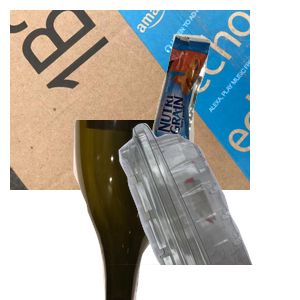cardboard: (10, 10, 250, 190)
glass: (71, 120, 254, 300)
plastic: (71, 120, 300, 300)
trash: (149, 31, 300, 179)
